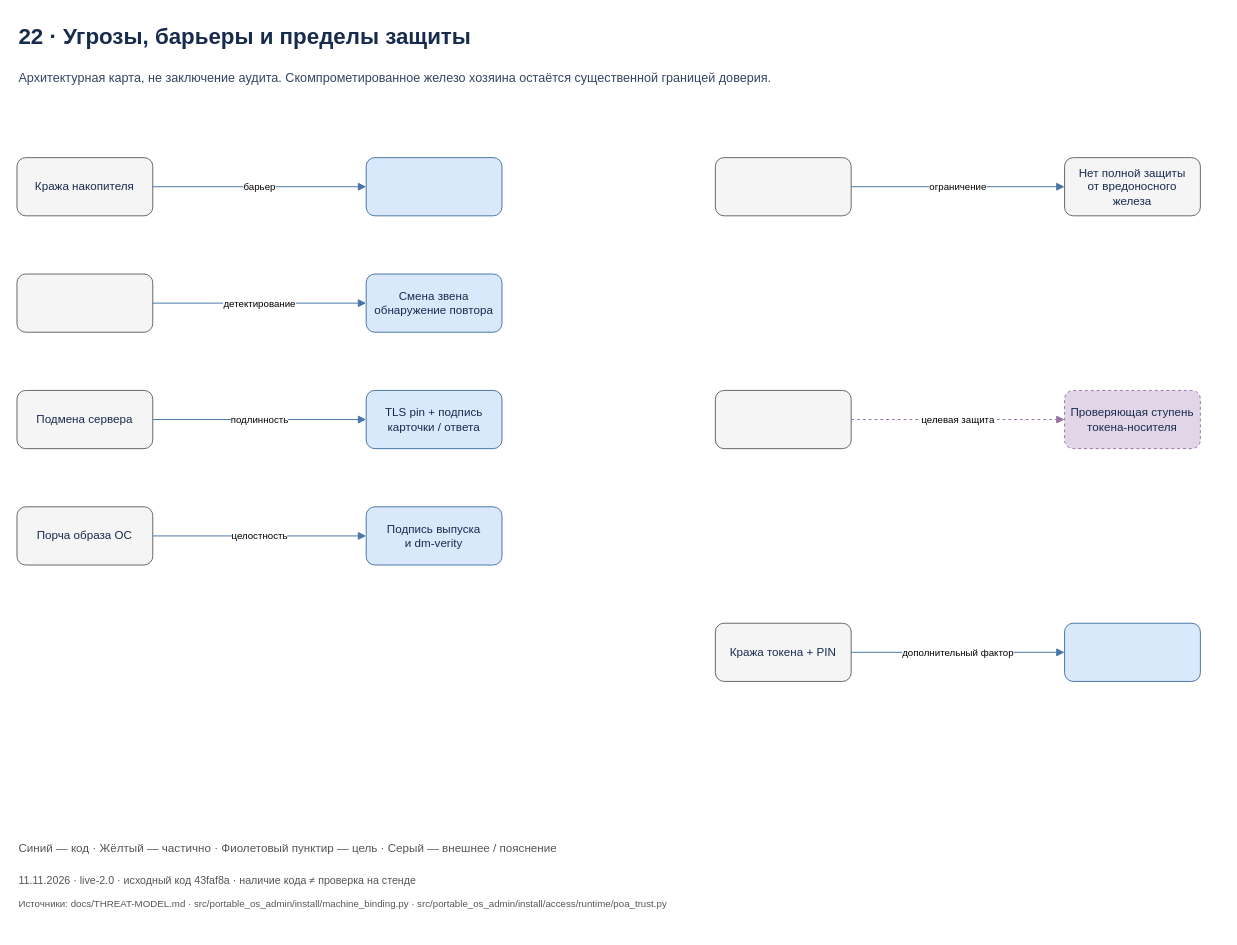
This 1237x945 diagram has some shape labels left out. Here are the shapes that lost their labels. From the top down, the centre of each, then its label:
(433,186): LUKS + фраза машинные слоты
(782,186): Враждебный компьютер хозяина
(84,302): Копия flash-Нити
(782,419): Подмена ядра до его запуска
(1132,651): TOTP отдельно на телефоне
